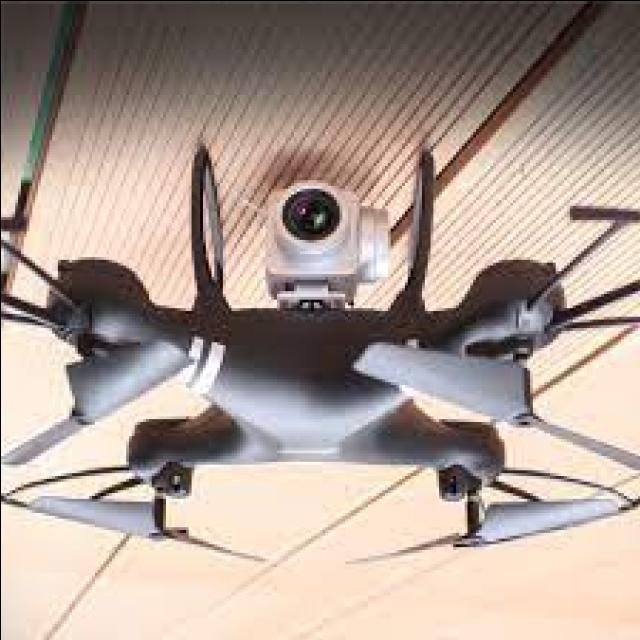drone: (0, 138, 640, 580)
